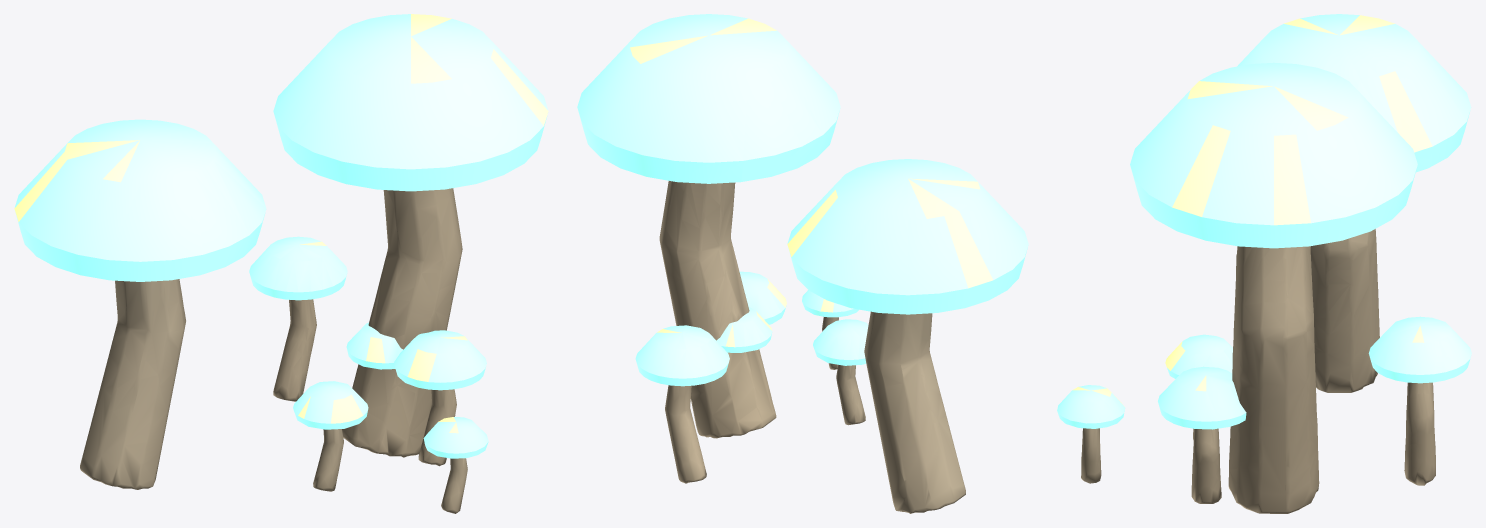
The model's file is mire_glowcap.glb.
The picture shows the model from 3 angles, left to right: view 1: azimuth 30°, elevation 25°; view 2: azimuth 150°, elevation 25°; view 3: azimuth 270°, elevation 25°; orthographic projection. The views are drawn at different scales.
Parts seen in each view (by area): view 1: mire_glowcap; view 2: mire_glowcap; view 3: mire_glowcap.
Part boxes in pixels (x1=…): mire_glowcap: x1=14, y1=14, x2=548, y2=513; mire_glowcap: x1=577, y1=14, x2=1028, y2=513; mire_glowcap: x1=1057, y1=14, x2=1471, y2=513.
Size of the model in its own units: 4.59 by 3.82 by 3.37.
